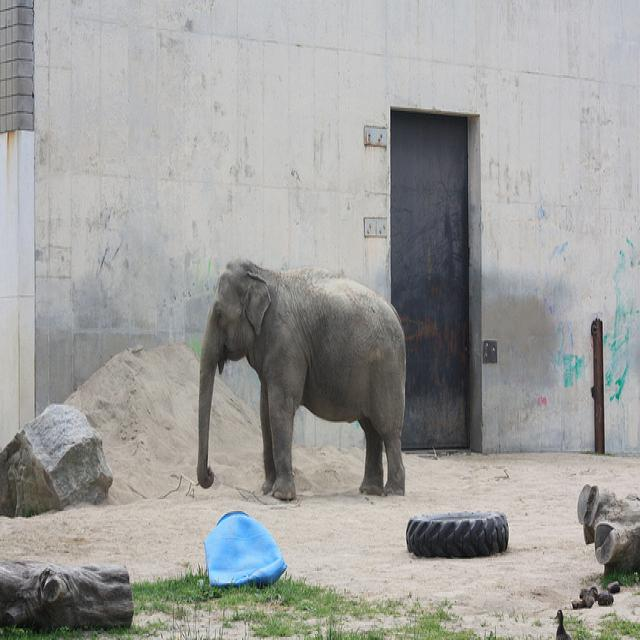Elephant: (196, 254, 406, 500)
